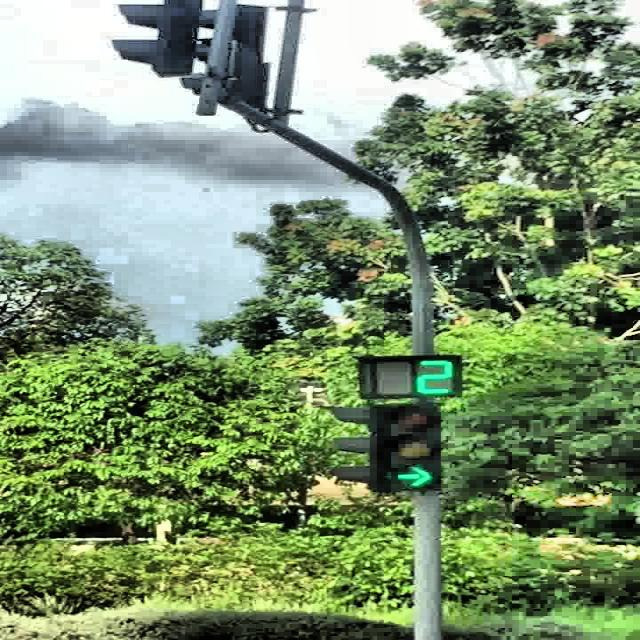green: (386, 403, 442, 490)
